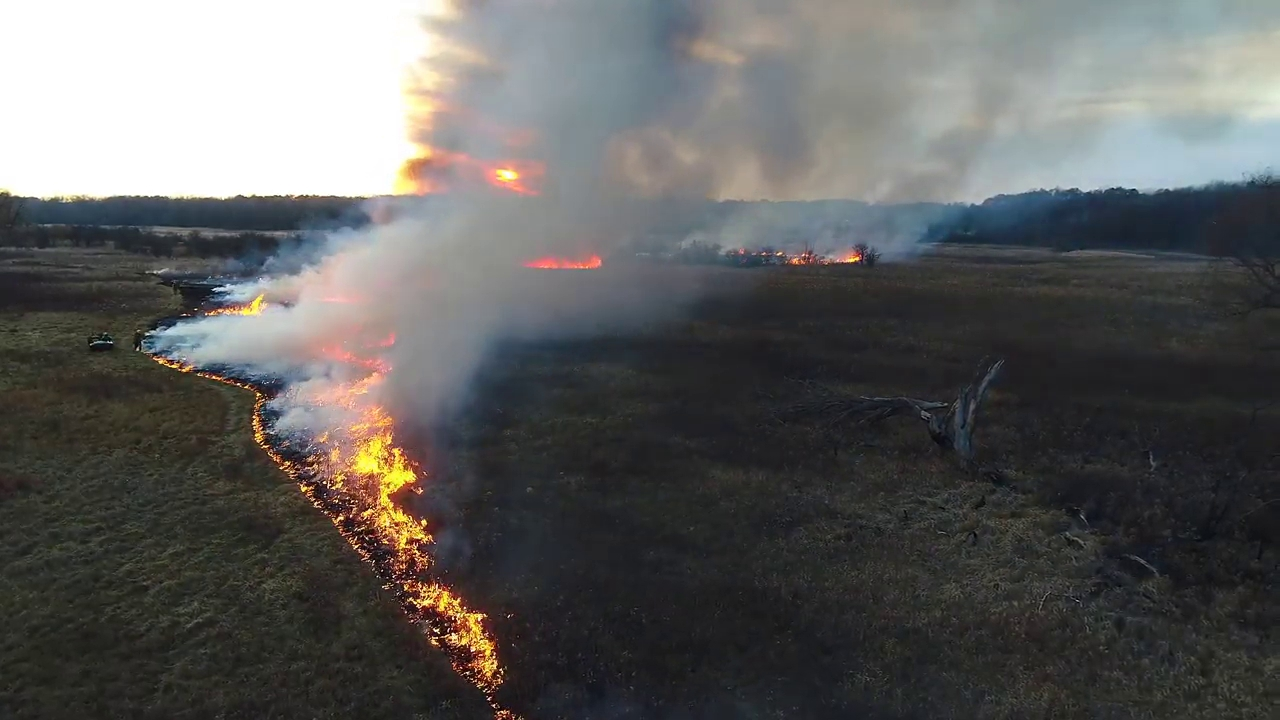forest_fire: (148, 334, 516, 718), (177, 295, 263, 321), (775, 248, 865, 264), (523, 254, 601, 268), (243, 372, 250, 373)
